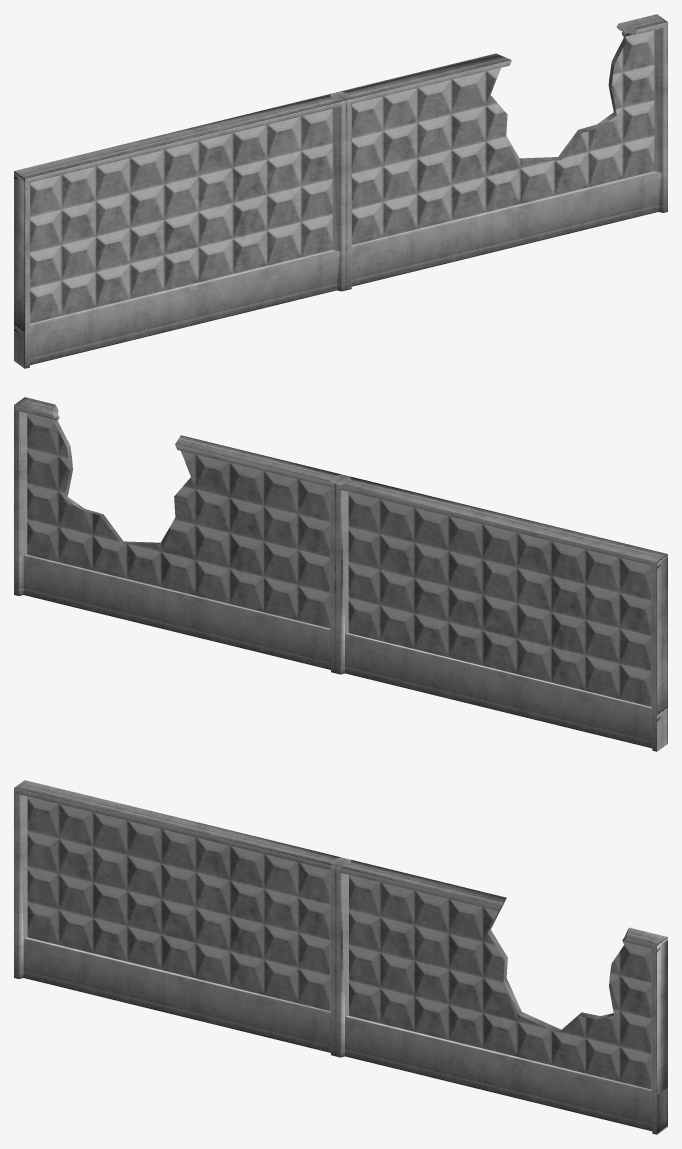
The model's file is FenceConcrete1_6.FBX.
3 renders of one model, top to bottom at view 1: azimuth 30°, elevation 25°; view 2: azimuth 150°, elevation 25°; view 3: azimuth 330°, elevation 25°, orthographic.
Parts seen in each view (by area): view 1: FenceConcrete1; view 2: FenceConcrete1; view 3: FenceConcrete1.
Part boxes in pixels (x1,y1,x2,y2): FenceConcrete1: [14, 14, 667, 368]; FenceConcrete1: [14, 397, 667, 751]; FenceConcrete1: [14, 780, 667, 1134].
Bounding box in the file's own units: 315 × 88.82 × 9.23.
